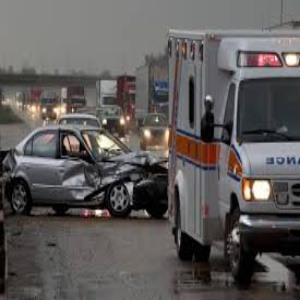door_scratch: (168, 158, 300, 246)
